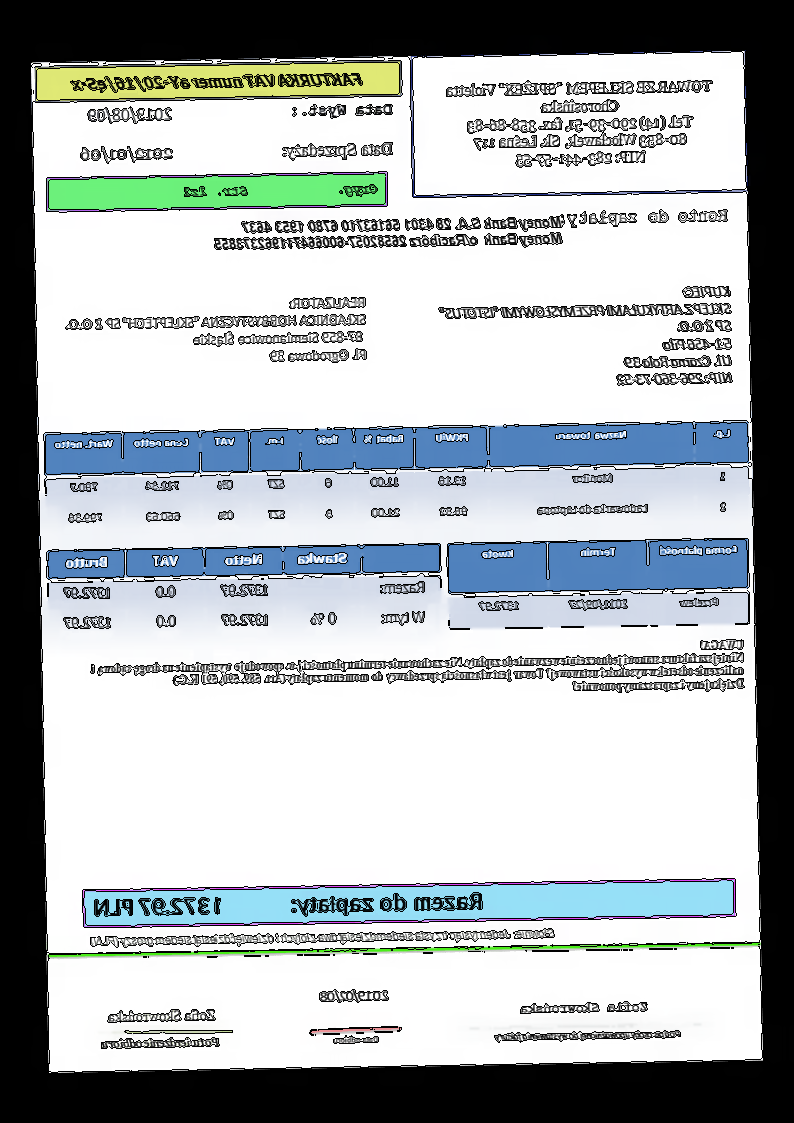Table: (42, 418, 752, 538), (45, 541, 443, 644), (445, 536, 751, 631)
TextBox: (85, 633, 749, 704), (435, 282, 736, 395), (441, 74, 721, 174), (62, 291, 372, 371), (92, 884, 488, 924), (211, 213, 567, 253), (88, 924, 558, 950), (64, 66, 365, 94), (179, 176, 381, 201), (559, 206, 732, 230), (492, 1027, 683, 1043), (282, 138, 398, 161), (289, 97, 397, 121), (517, 998, 651, 1016), (101, 1005, 218, 1025), (78, 141, 178, 164), (84, 101, 175, 126), (98, 1036, 224, 1051), (316, 985, 392, 1004), (331, 1031, 382, 1049)
